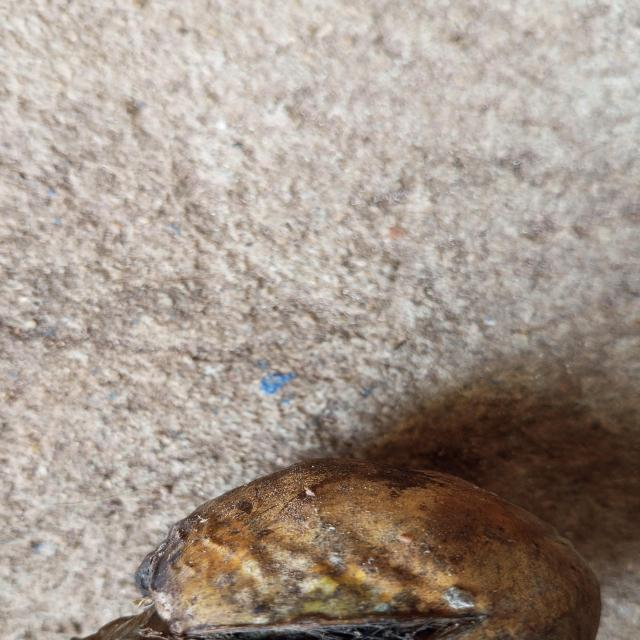damaged: (110, 457, 603, 640)
